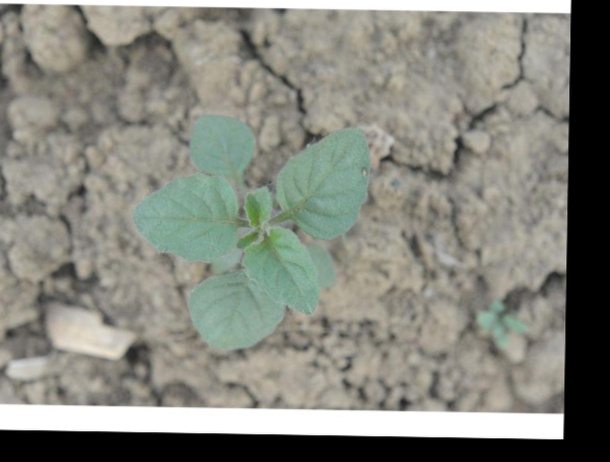nightshade: (130, 113, 368, 348)
